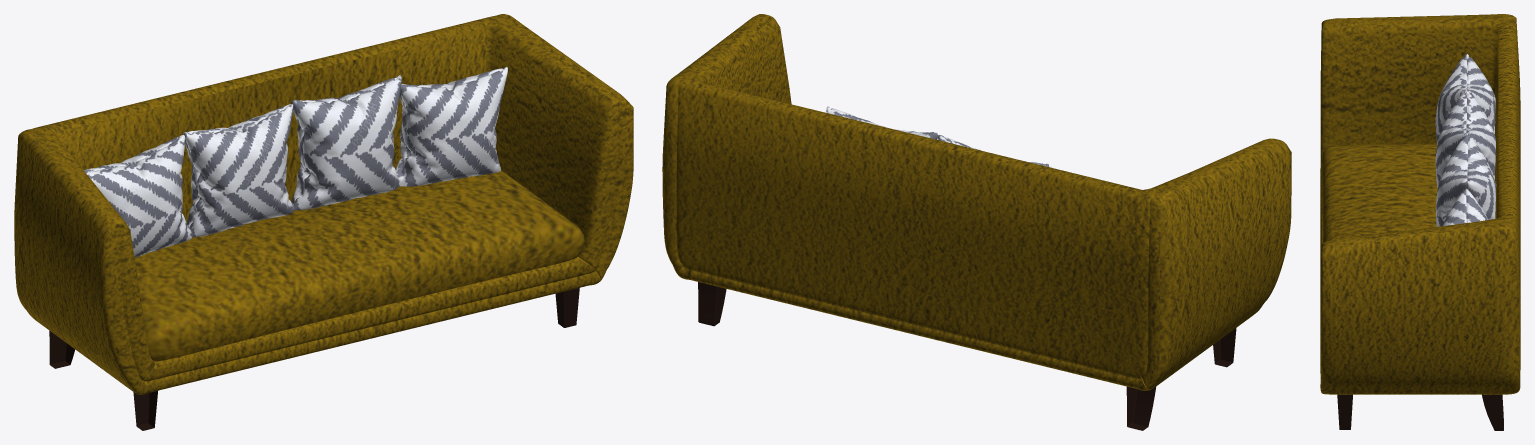
3 views of the same model, side by side, from view 1: azimuth 30°, elevation 25°; view 2: azimuth 150°, elevation 25°; view 3: azimuth 270°, elevation 25° (orthographic). The views are drawn at different scales.
Parts seen in each view (by area): view 1: couch, seat, pillow_03_geo, Legs_01_geo; view 2: couch, Legs_01_geo, pillow_03_geo; view 3: couch, seat, pillow_03_geo, Legs_01_geo.
Part boxes in pixels (<box>): couch: <box>14,14,633,394</box>; seat: <box>135,170,584,361</box>; pillow_03_geo: <box>83,66,507,257</box>; Legs_01_geo: <box>49,287,579,430</box>; couch: <box>662,14,1291,390</box>; Legs_01_geo: <box>698,282,1236,430</box>; pillow_03_geo: <box>826,106,1054,168</box>; couch: <box>1320,14,1520,394</box>; seat: <box>1321,144,1437,242</box>; pillow_03_geo: <box>1435,54,1496,226</box>; Legs_01_geo: <box>1337,394,1503,430</box>.
Size of the model in its own units: 2.09 by 0.8929 by 0.7535.
Materials: 4 (3 with a texture image).
